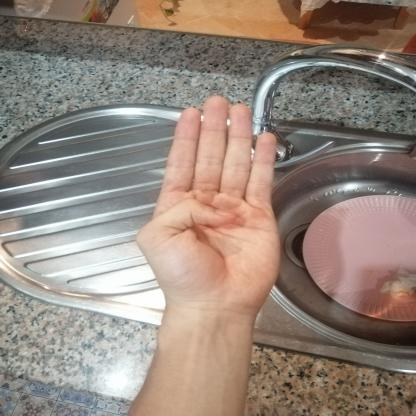KAAF: (114, 82, 305, 332)
